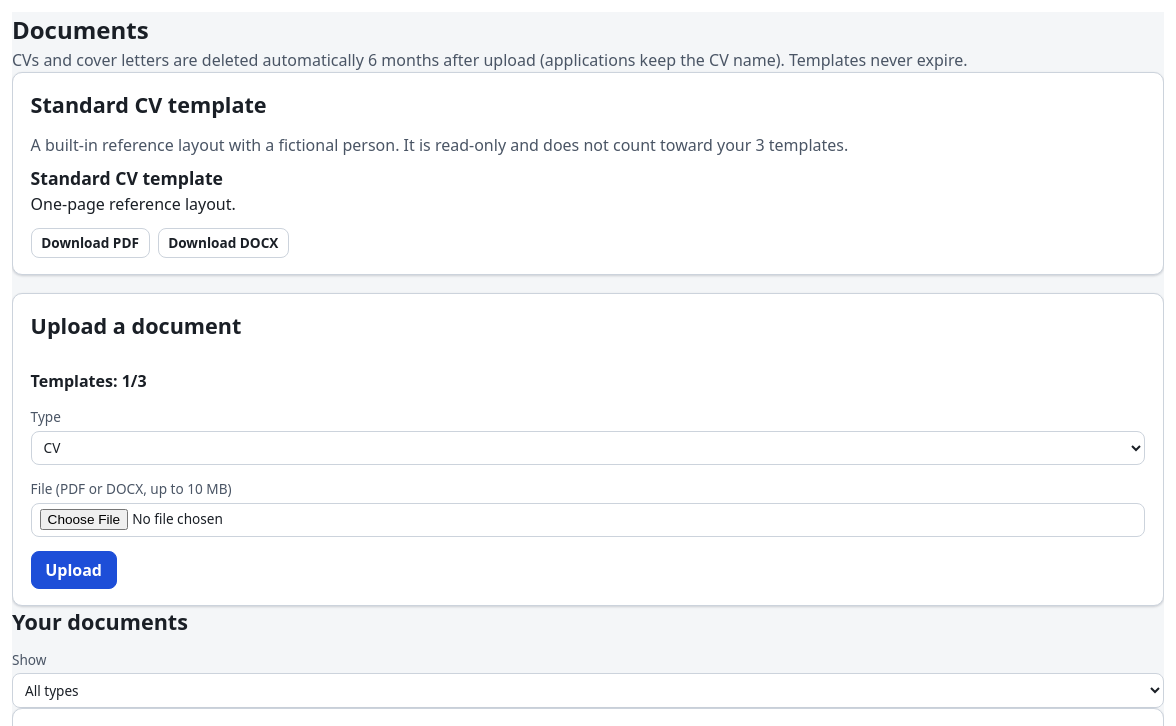
Test case: DocumentsPage › filters the list by kind
Select "Template" in the dropdown labelled "Show" at {"x": 588, "y": 691}, box [12,674,1164,708]
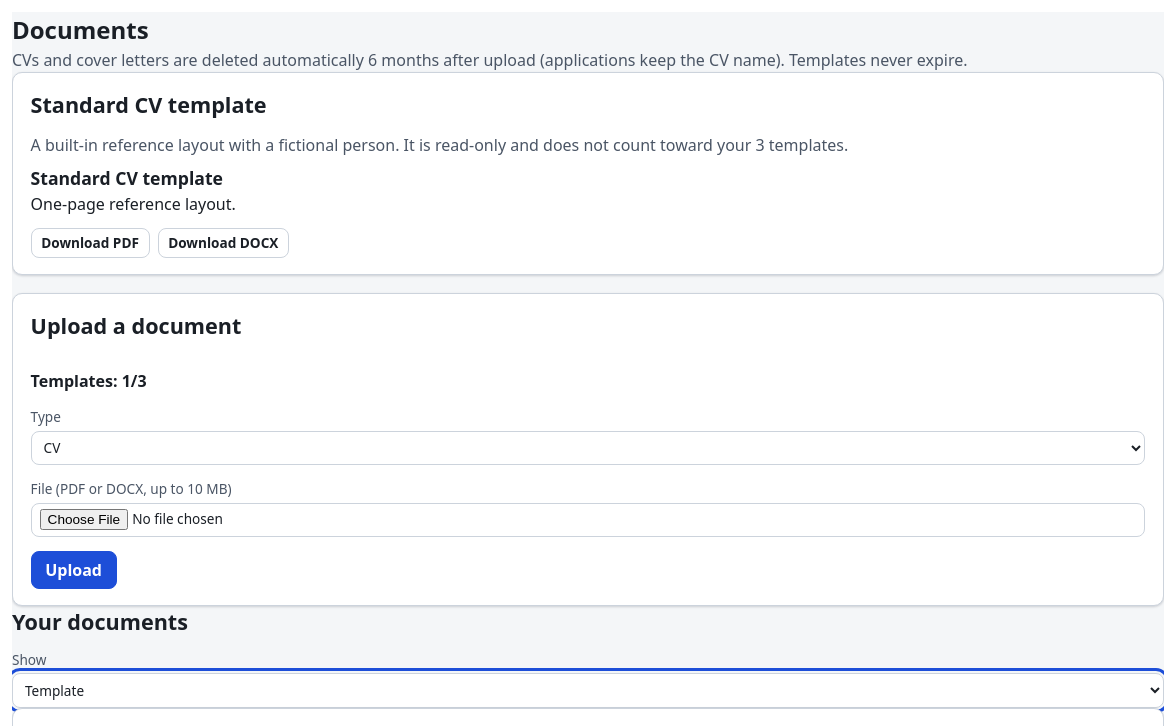
Select "Cover letter" in the dropdown labelled "Show" at {"x": 588, "y": 691}, box [12,674,1164,708]
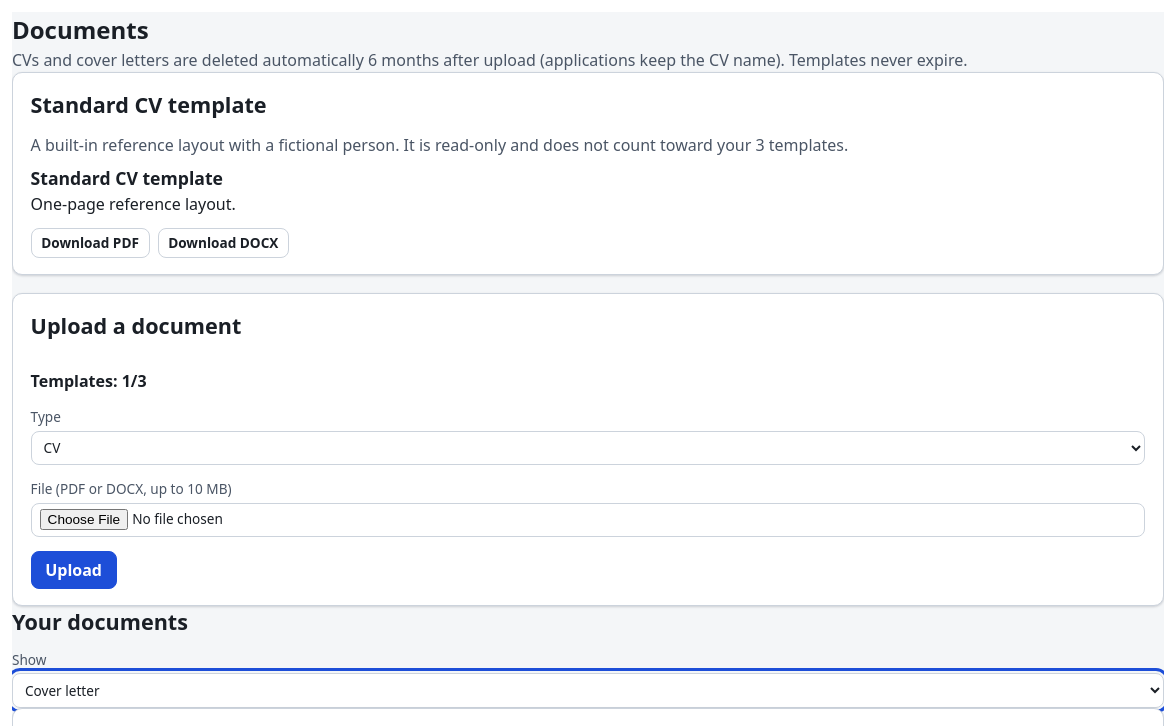
Select "All types" in the dropdown labelled "Show" at {"x": 588, "y": 691}, box [12,674,1164,708]
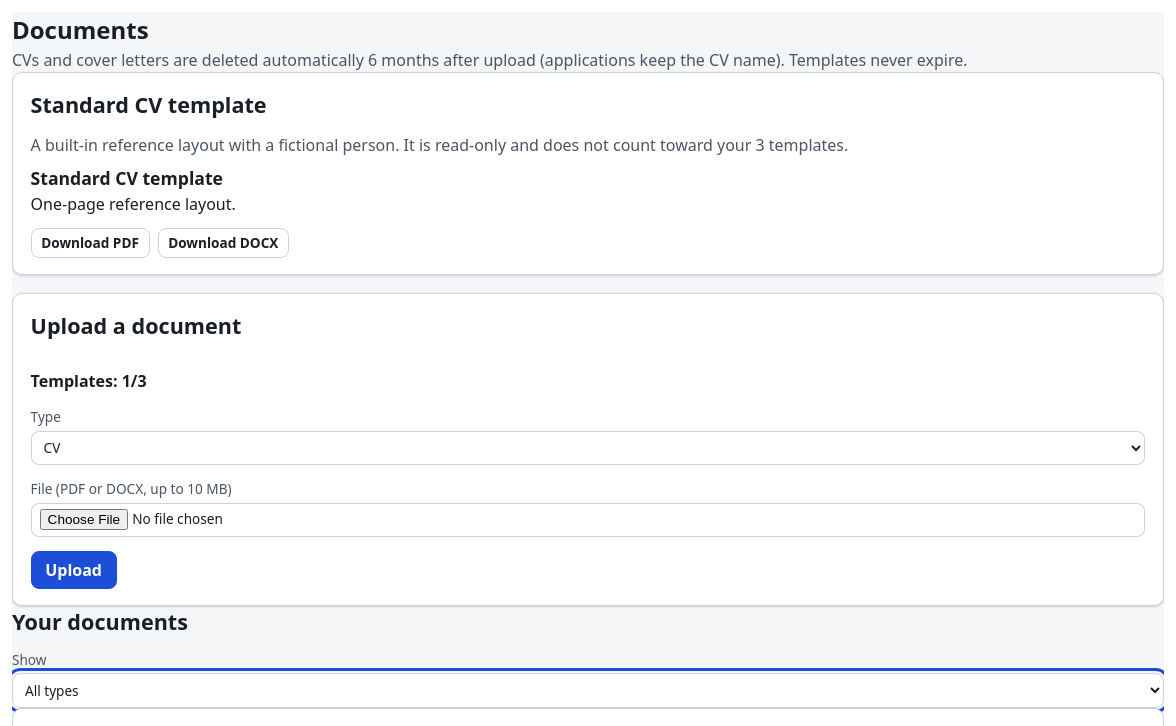
Expected: the number of list items is 3
